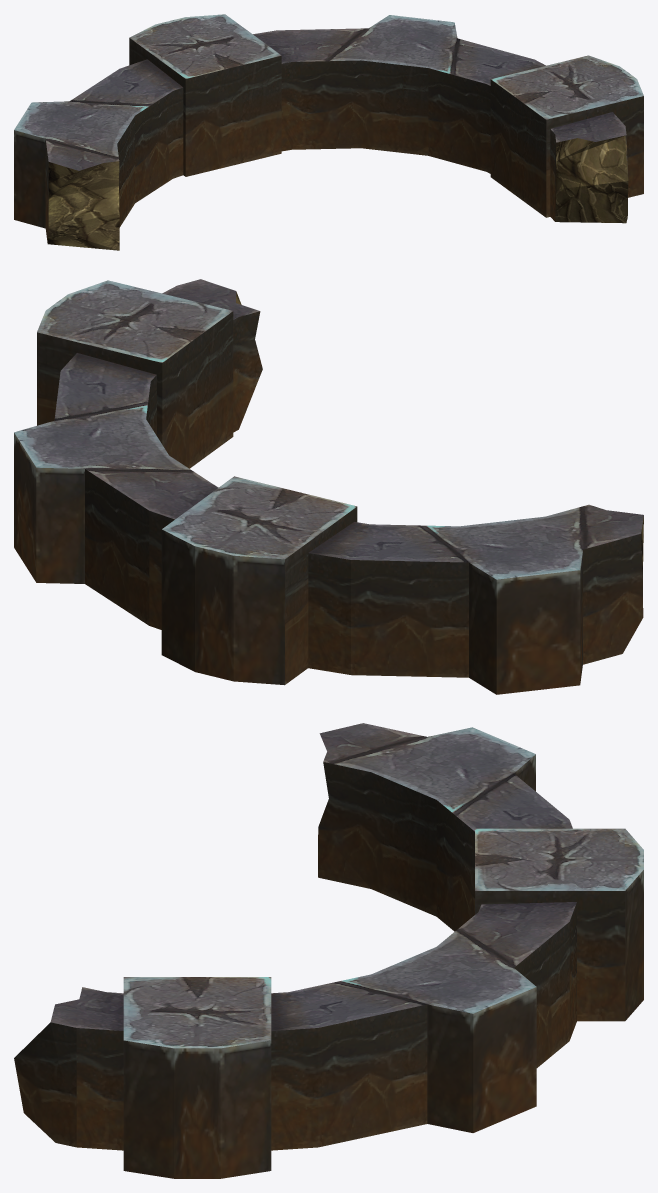
Rendered from D_jitan003.fbx.
3 renders of one model, top to bottom at view 1: azimuth 30°, elevation 25°; view 2: azimuth 150°, elevation 25°; view 3: azimuth 270°, elevation 25°, orthographic. The views are drawn at different scales.
Visible parts, largest first — view 1: D_jitan003; view 2: D_jitan003; view 3: D_jitan003.
Boxes of the visible parts, <box> form: D_jitan003: <box>14,14,643,250</box>; D_jitan003: <box>14,279,643,694</box>; D_jitan003: <box>14,723,643,1178</box>.
Bounding box in the file's own units: 707 × 128 × 559.
